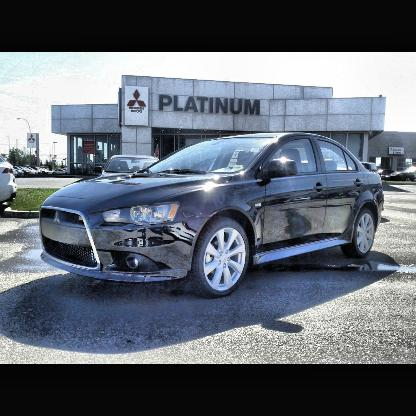Mitsubishi Lancer Sedan 2012: (38, 133, 386, 299)
